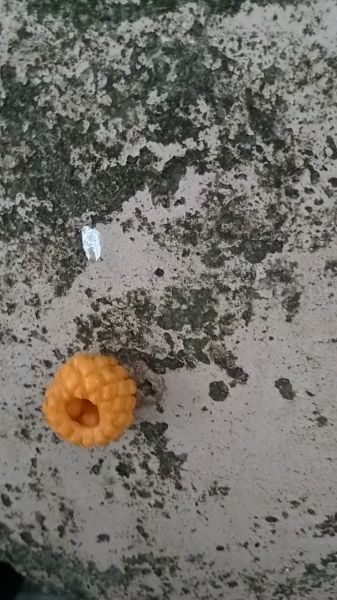eggs: (39, 344, 139, 455)
